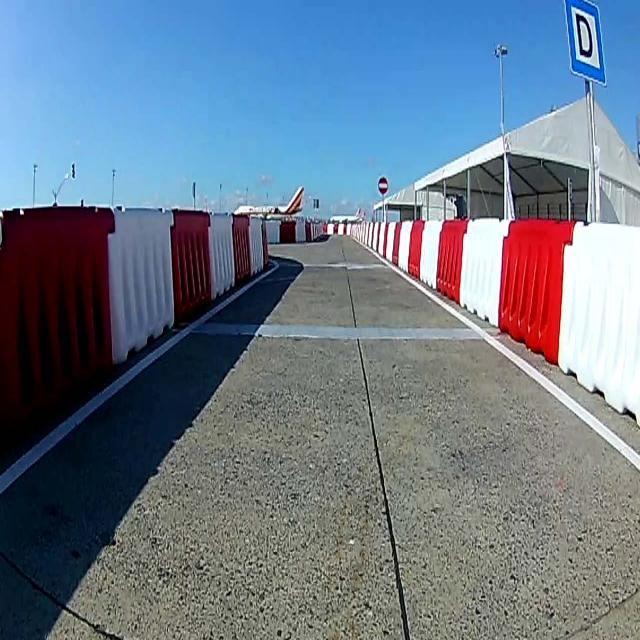durak: (566, 1, 606, 87)
girisyok: (376, 175, 388, 198)
